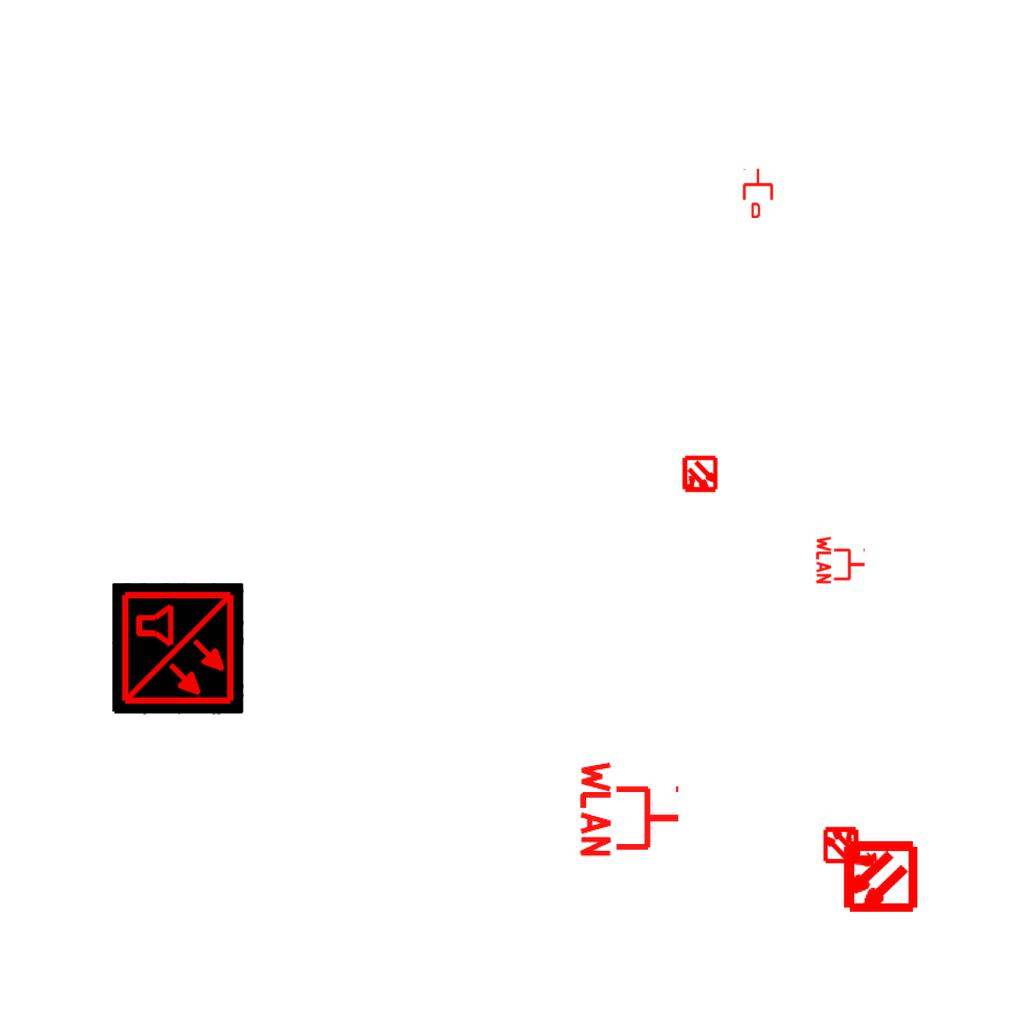Datenanschluss_einfach: (741, 168, 775, 218)
OKW_Multisensormelder_(Kombination_optischer_Rauch-Kahlenmonoxid_Waerme-Melder): (112, 583, 244, 715)
OT_Multisensormelder_(Kombination_RMO_WMD): (822, 820, 935, 933), (813, 816, 869, 872), (672, 447, 728, 503)
WLAN: (578, 757, 683, 861), (815, 534, 867, 586)
